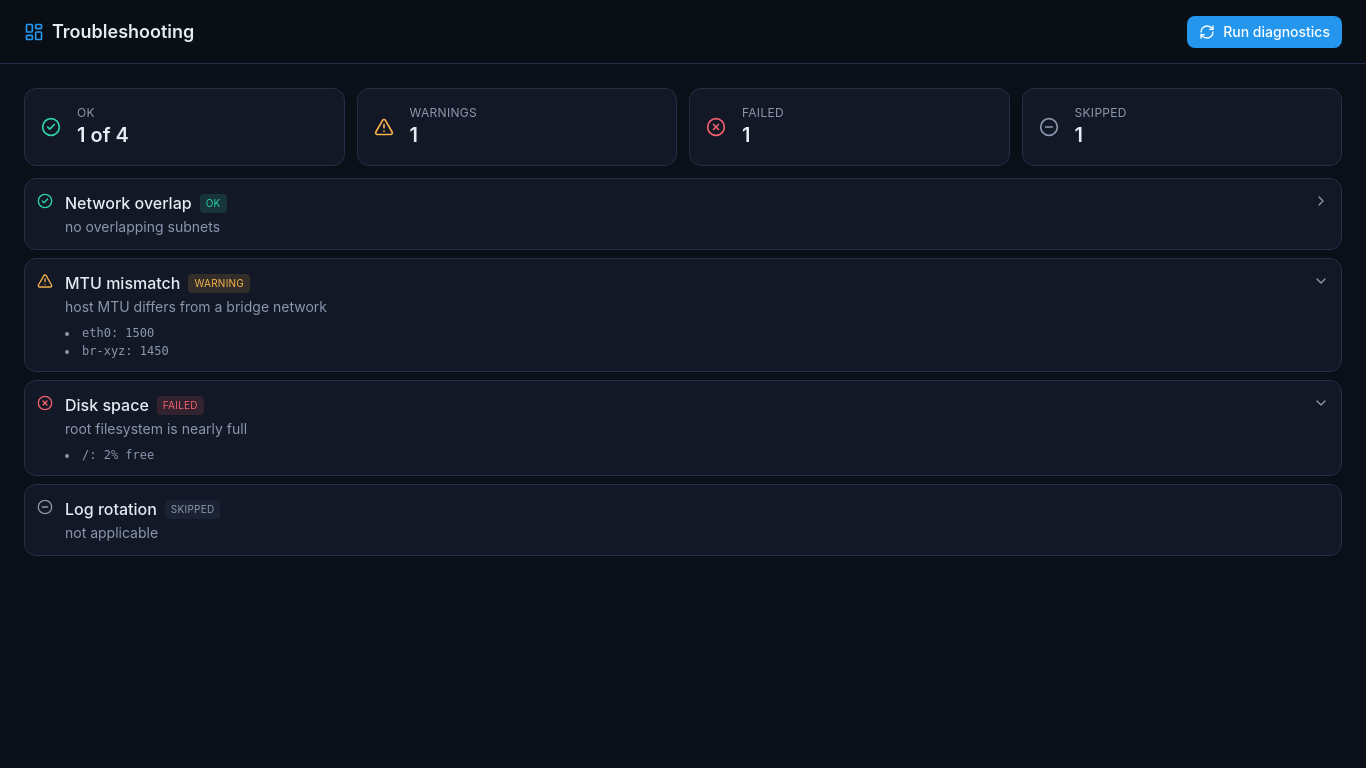
Troubleshooting collapsible details › re-applies the open/closed default when a rerun changes a check's status
Expected: the element with class "font-medium" does not show "br-abc: 172.18.0.0/16"
Click the button "Run diagnostics": {"x": 1265, "y": 32} x1=1187 y1=16 x2=1342 y2=48
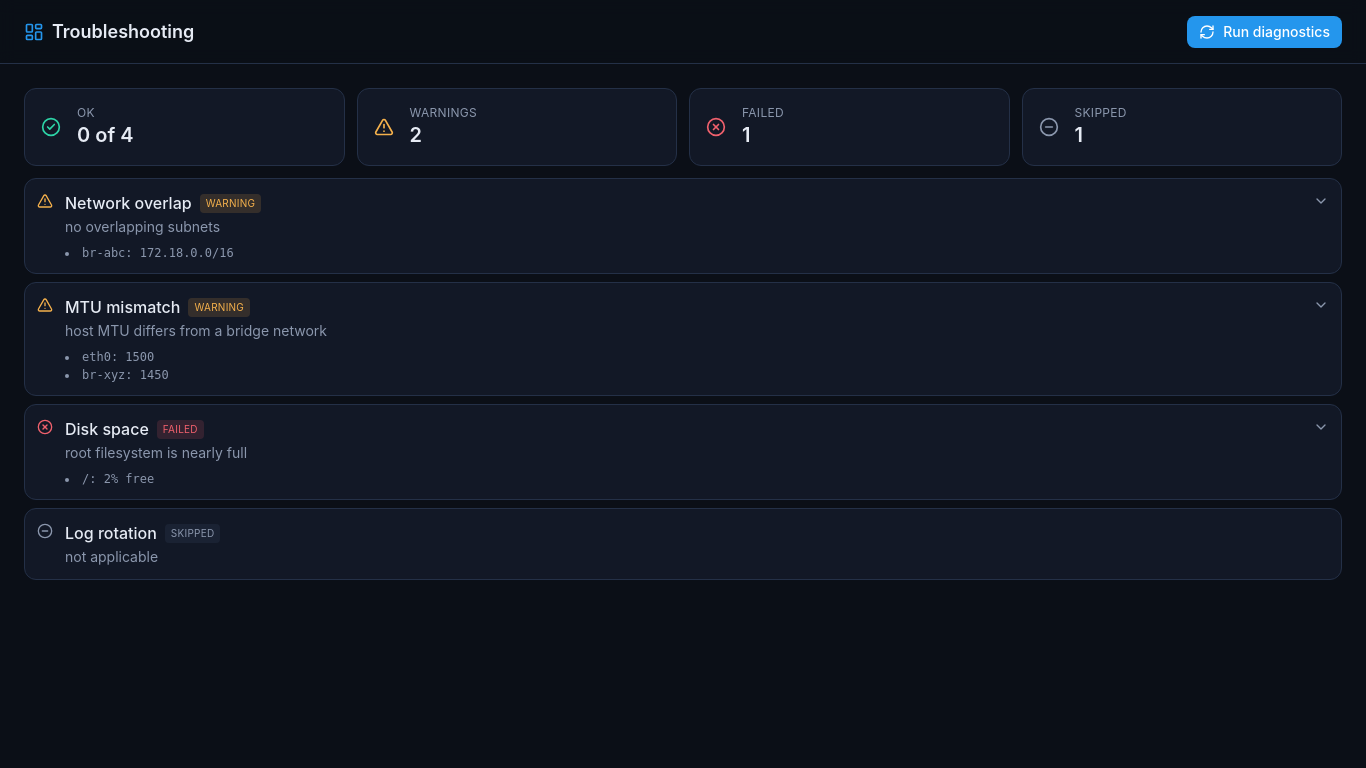
Expected: the element with class "font-medium" shows "br-abc: 172.18.0.0/16", x1=82 y1=246 x2=234 y2=260
